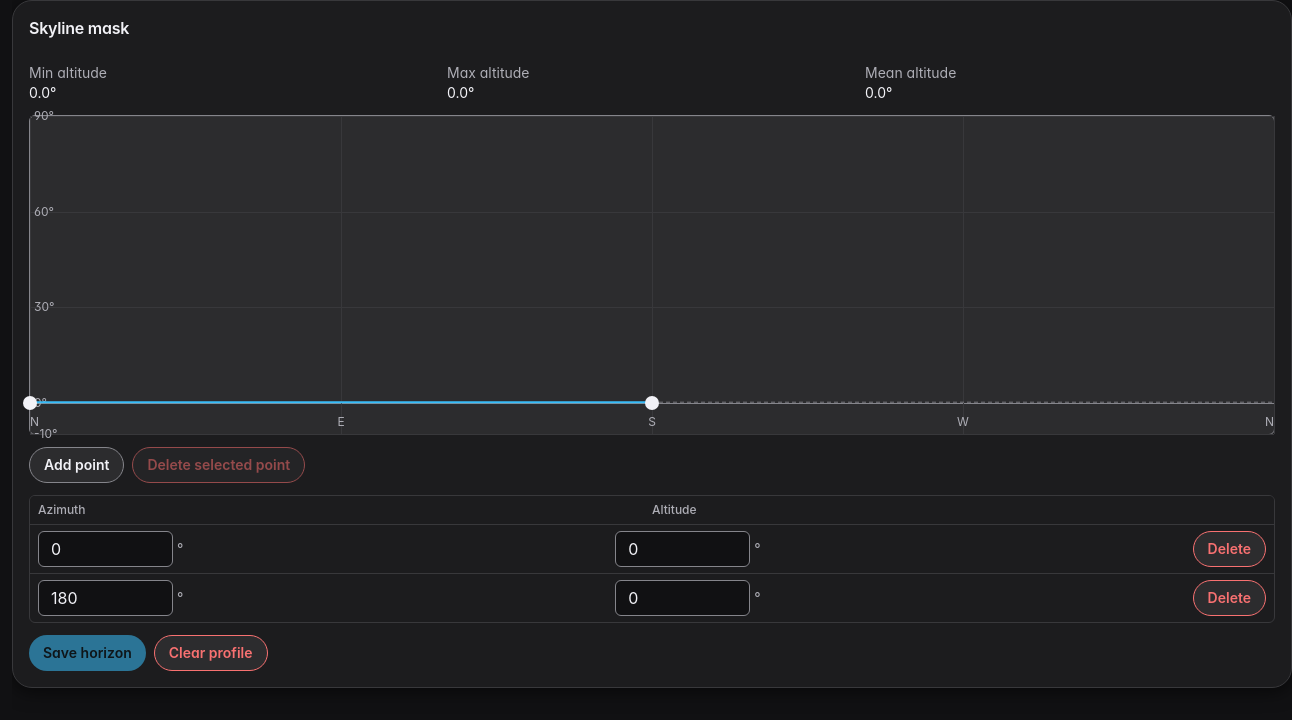
Test: preserves horizon edits made while an earlier save is pending
The image size is (1292, 720).
Replace the text in the 2nd number field named "Altitude, degrees, point 1" with "10" at (683, 549), box [615, 531, 750, 567]
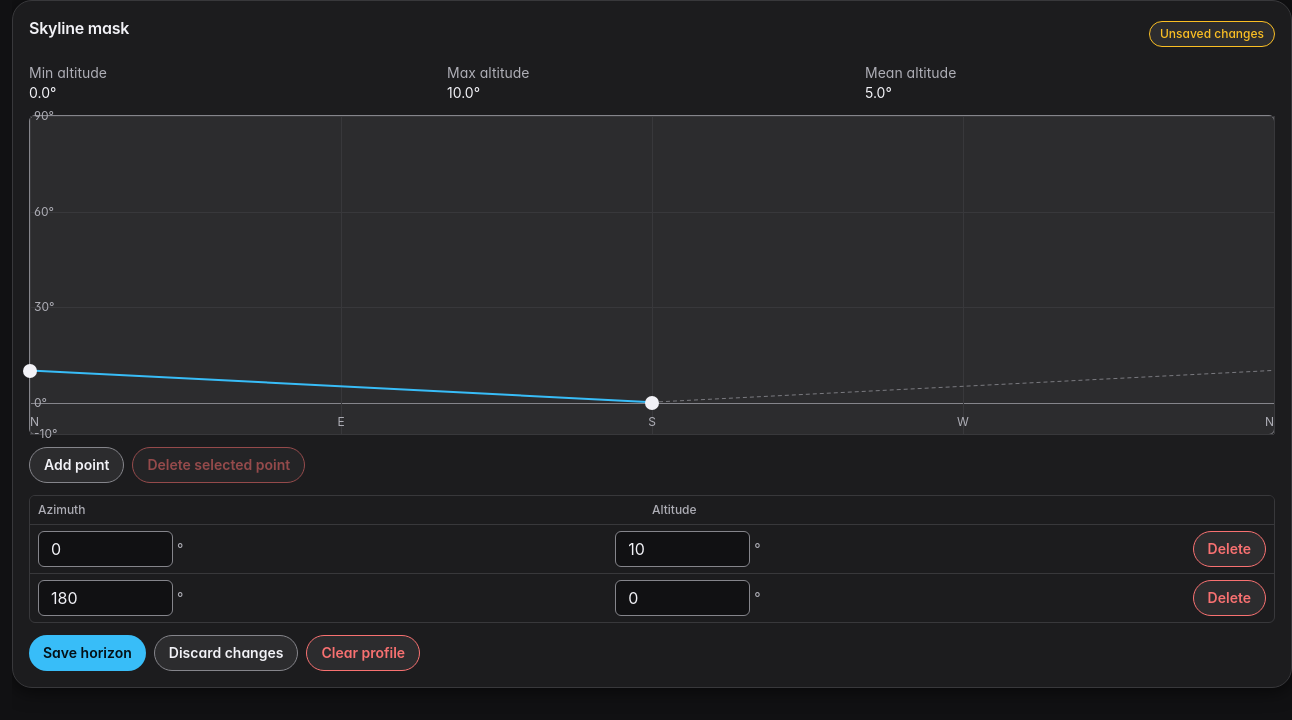
Click the button "Save horizon".
click(87, 653)  # box [29, 635, 146, 671]
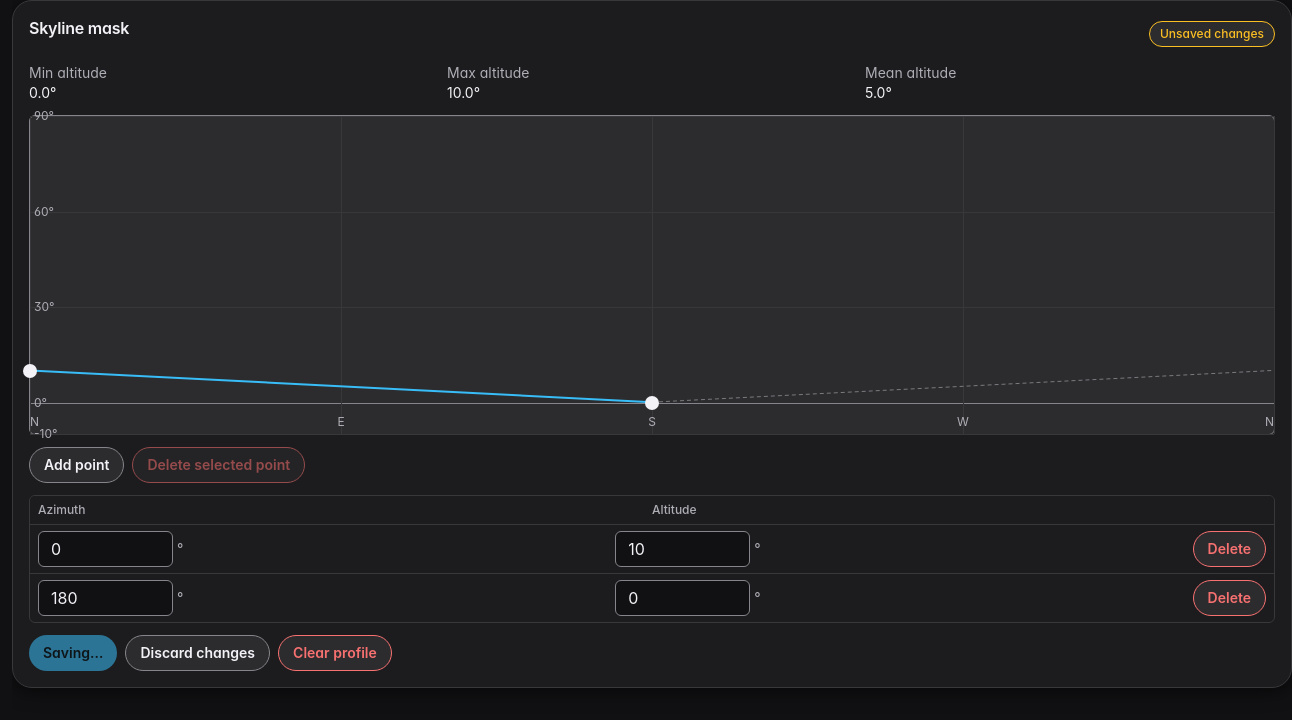
Replace the text in the 2nd number field named "Altitude, degrees, point 1" with "20" at (683, 549), box [615, 531, 750, 567]
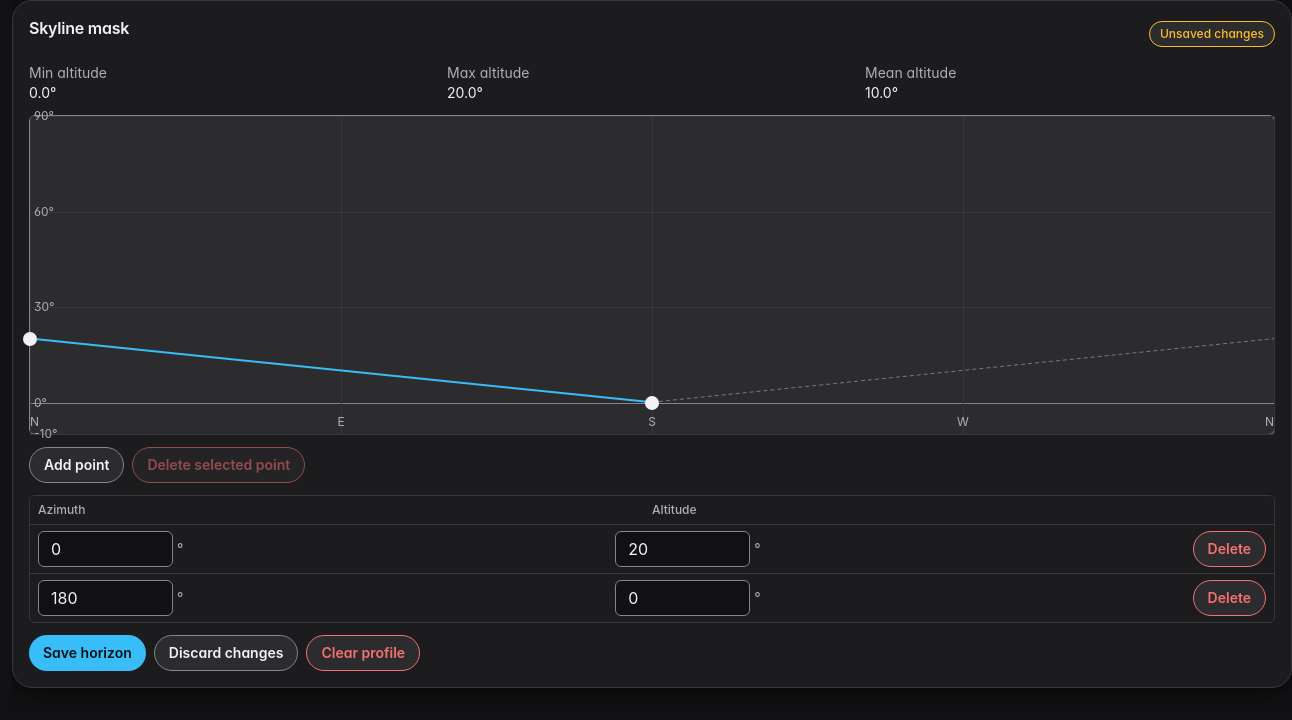
Now the button "Discard changes" is shown, box [154, 635, 298, 671]
Now the button "Save horizon" is enabled, box [29, 635, 146, 671]
